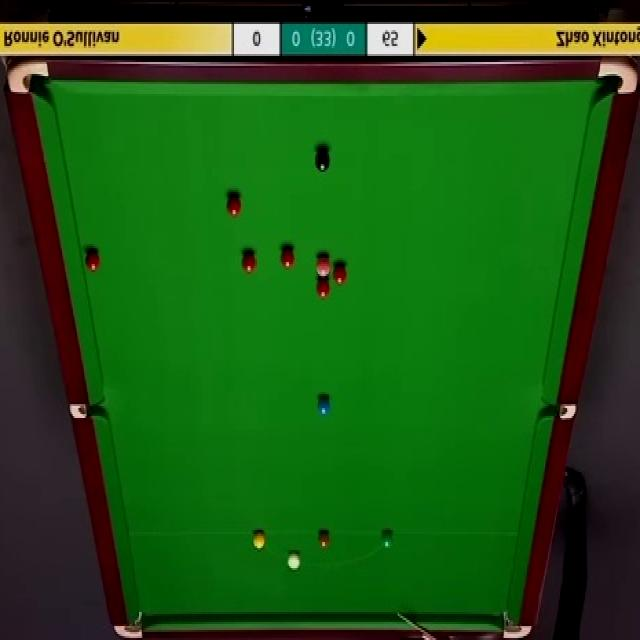black-ball: (315, 146, 330, 172)
blue-ball: (316, 396, 329, 417)
brown-ball: (316, 529, 331, 551)
green-ball: (381, 531, 394, 550)
pink-ball: (315, 254, 330, 277)
red-ball: (225, 192, 243, 218), (315, 276, 333, 302), (278, 246, 296, 271), (83, 248, 100, 272), (241, 252, 257, 272), (334, 262, 346, 286)
white-ball: (287, 550, 302, 572)
yellow-ball: (250, 530, 266, 550)
